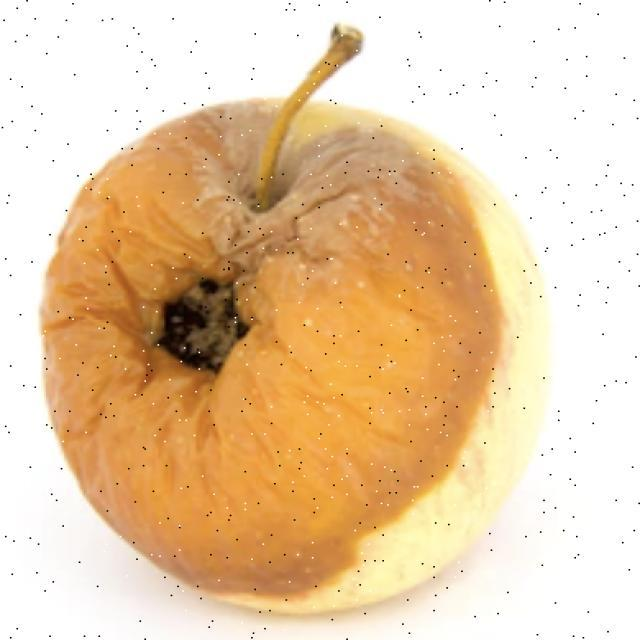Rotten: (51, 115, 576, 640)
